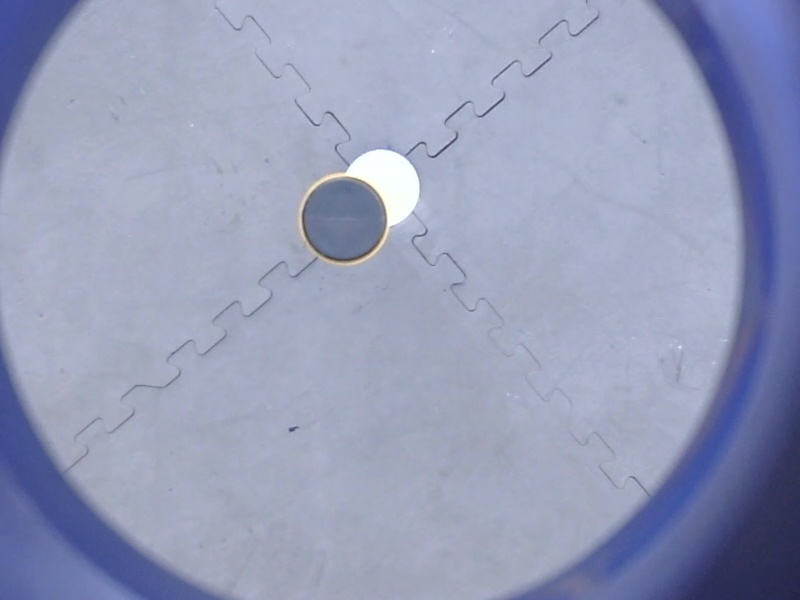tip: (292, 168, 395, 274)
